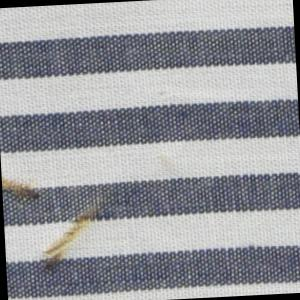Oil Stain: (2, 163, 111, 282)
